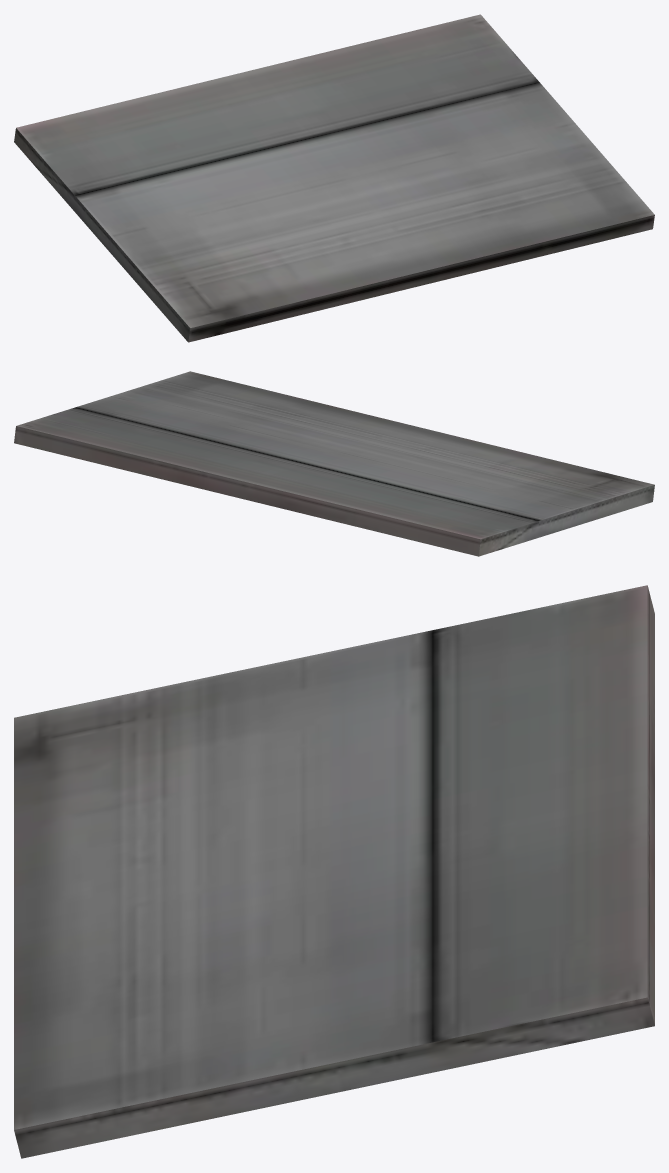
File: cabinet__screen_glass.glb
3 renders of one model, top to bottom at view 1: azimuth 30°, elevation 25°; view 2: azimuth 150°, elevation 25°; view 3: azimuth 270°, elevation 25°, orthographic. The views are drawn at different scales.
Visible parts, largest first — view 1: geometry_0; view 2: geometry_0; view 3: geometry_0.
Boxes of the visible parts, bbox=[...] form: geometry_0: bbox=[14, 14, 654, 342]; geometry_0: bbox=[14, 371, 654, 556]; geometry_0: bbox=[14, 585, 654, 1158].
Bounding box in the file's own units: 0.48 × 0.0876 × 0.3154.
Materials: 1 (1 with a texture image).
